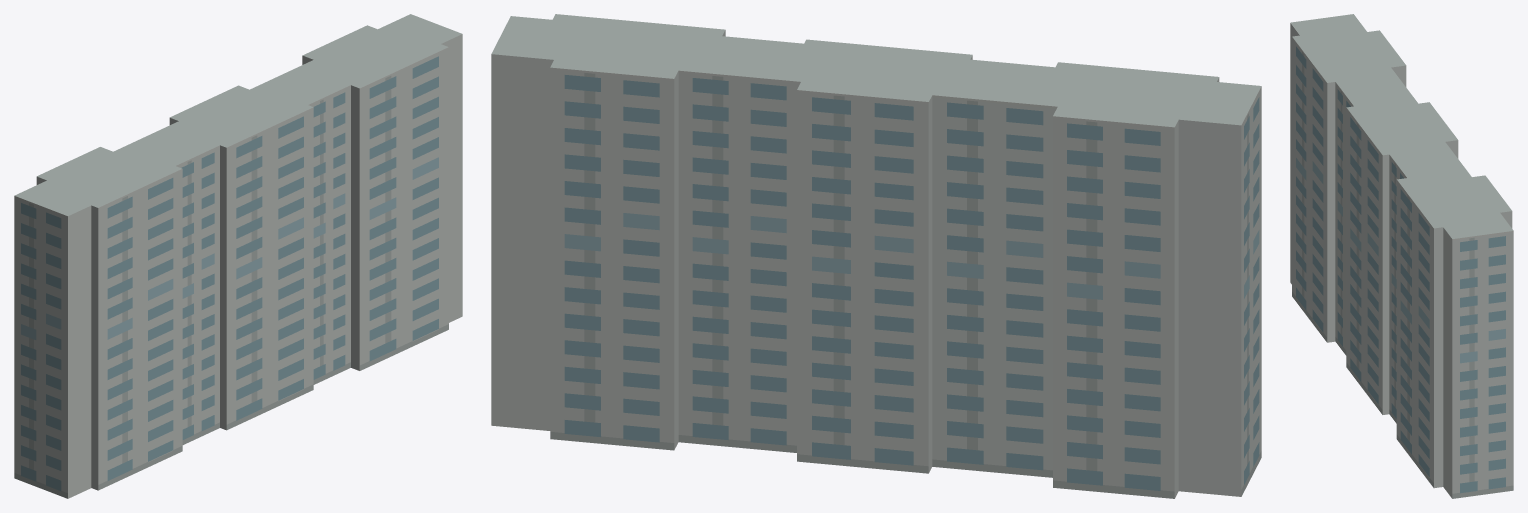
File: residential-8671379a-f558-4610-b84d-d475c02d03d9.glb
The picture shows the model from 3 angles, left to right: view 1: azimuth 30°, elevation 25°; view 2: azimuth 150°, elevation 25°; view 3: azimuth 270°, elevation 25°; orthographic projection. The views are drawn at different scales.
Visible parts, largest first — view 1: residential-8671379a-f558-4610-b84d-d475c02d03d9.tmp; view 2: residential-8671379a-f558-4610-b84d-d475c02d03d9.tmp; view 3: residential-8671379a-f558-4610-b84d-d475c02d03d9.tmp.
Boxes of the visible parts, x1,y1,x2,y2 form: residential-8671379a-f558-4610-b84d-d475c02d03d9.tmp: (14, 14, 462, 498); residential-8671379a-f558-4610-b84d-d475c02d03d9.tmp: (491, 14, 1261, 498); residential-8671379a-f558-4610-b84d-d475c02d03d9.tmp: (1290, 14, 1513, 498).
Bounding box in the file's own units: 79.39 × 42.7 × 33.31.
